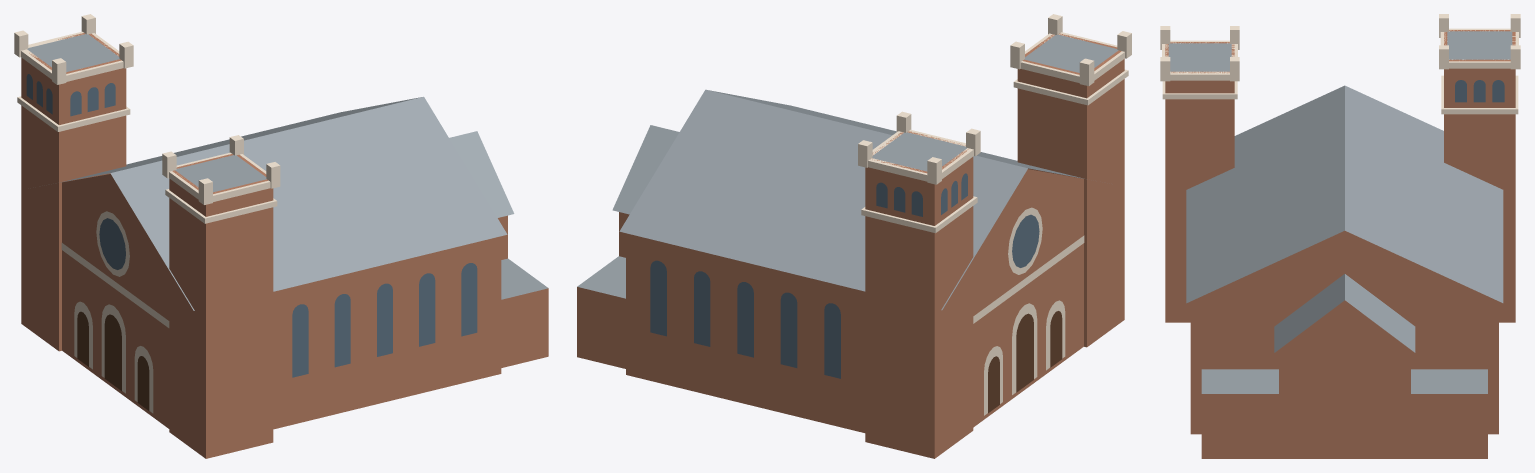
File: sat-st-marys-church.glb
The picture shows the model from 3 angles, left to right: view 1: azimuth 30°, elevation 25°; view 2: azimuth 150°, elevation 25°; view 3: azimuth 270°, elevation 25°; orthographic projection. The views are drawn at different scales.
Parts seen in each view (by area): view 1: St. Mary's Catholic Church; view 2: St. Mary's Catholic Church; view 3: St. Mary's Catholic Church.
Boxes of the visible parts, left/top/right/bottom form: St. Mary's Catholic Church: left=14, top=14, right=548, bottom=458; St. Mary's Catholic Church: left=577, top=14, right=1131, bottom=458; St. Mary's Catholic Church: left=1160, top=14, right=1520, bottom=458.
Bounding box in the file's own units: 36.85 × 27.6 × 32.7.
